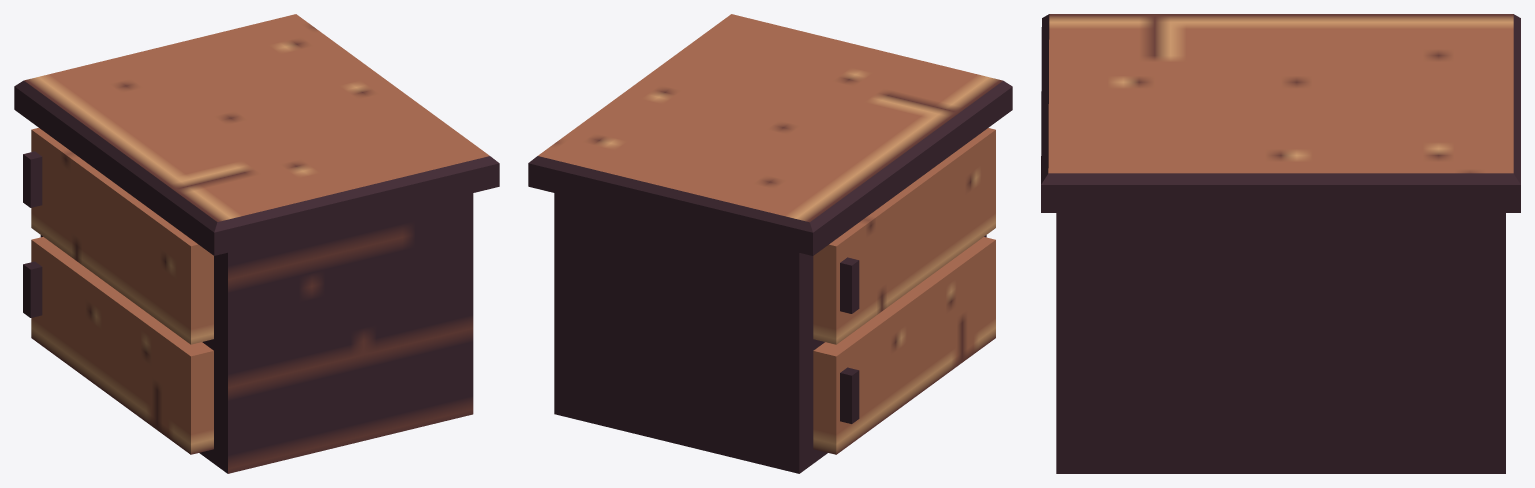
File: GabinetePequeno3.fbx
3 renders of one model, left to right at view 1: azimuth 30°, elevation 25°; view 2: azimuth 150°, elevation 25°; view 3: azimuth 270°, elevation 25°, orthographic. The views are drawn at different scales.
Visible parts, largest first — view 1: GabinetePequeno3_Mesh; view 2: GabinetePequeno3_Mesh; view 3: GabinetePequeno3_Mesh.
Boxes of the visible parts, x1=… form: GabinetePequeno3_Mesh: x1=14, y1=14, x2=499, y2=473; GabinetePequeno3_Mesh: x1=528, y1=14, x2=1012, y2=473; GabinetePequeno3_Mesh: x1=1041, y1=14, x2=1520, y2=473.
Size of the model in its own units: 94.9 by 110 by 77.8.
